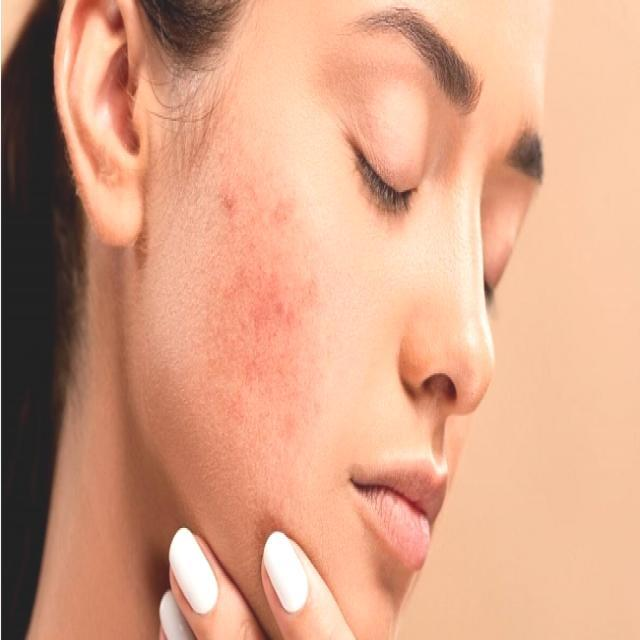Rosacea: (199, 168, 320, 448)
